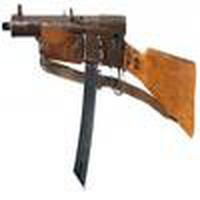gun: (3, 8, 198, 144)
